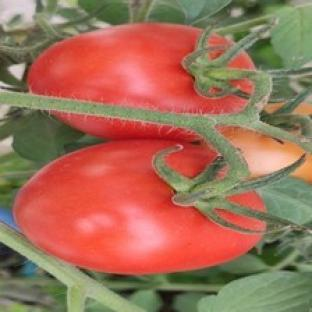Tomato: (14, 140, 261, 274), (28, 23, 246, 114), (223, 129, 305, 176)
